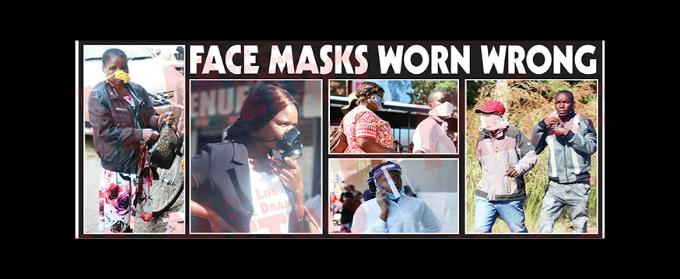mask_weared_incorrect: (380, 177, 411, 199), (107, 65, 131, 85)
with_mask: (271, 112, 303, 152), (478, 110, 503, 129), (433, 97, 454, 116), (371, 92, 388, 111)
without_mask: (555, 98, 573, 115)
